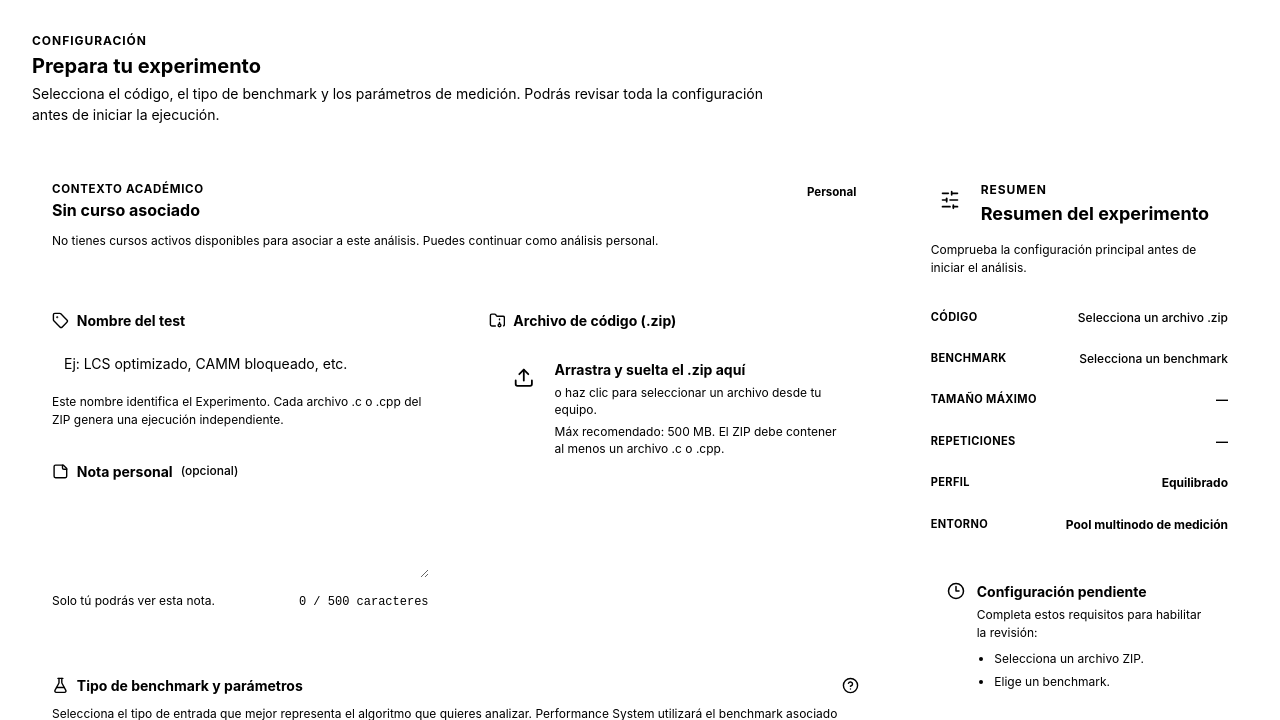
it: RenderFormPage 6A onboarding › note is secondary, editable, counted and limited to 500
Check: the text "Solo tú podrás ver esta nota." is shown, box [52, 592, 215, 610]
Check: the text "0 / 500 caracteres" is shown, box [299, 593, 428, 611]
Type "Título independiente" into the field labelled "Nombre del test".
click(240, 364); type("Título independiente")  # box [52, 343, 428, 385]
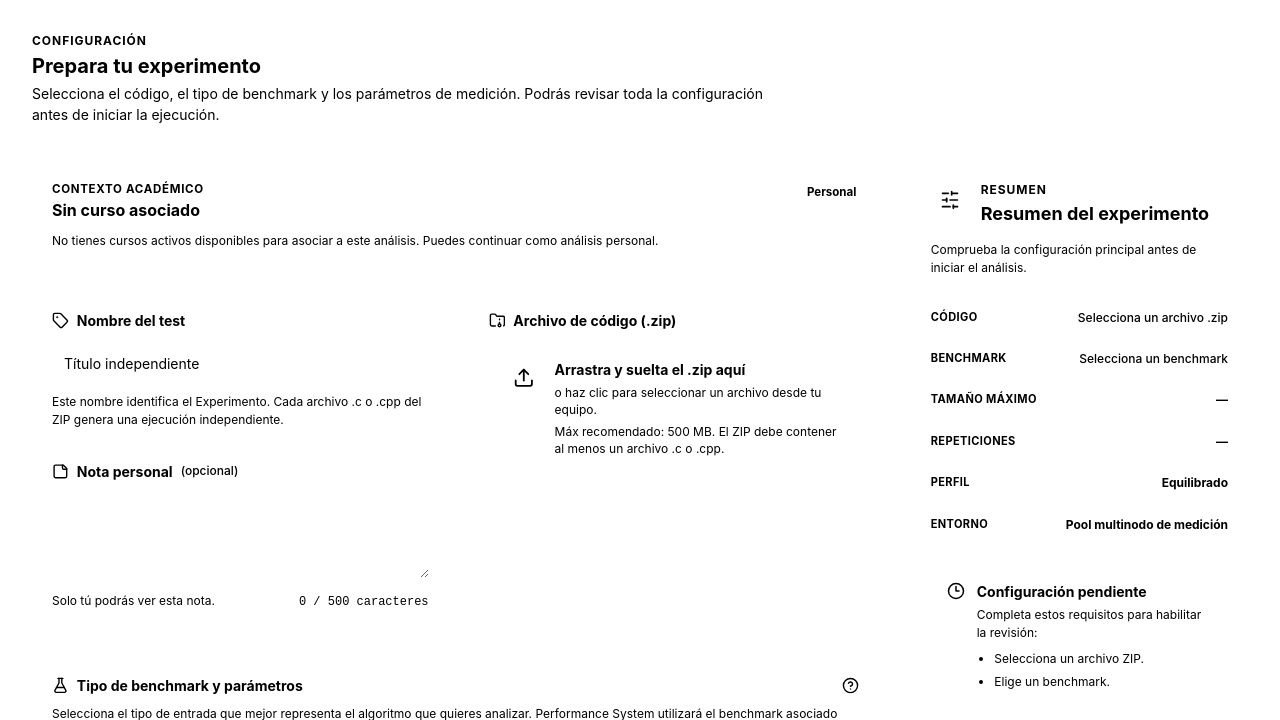
Type "nota" into the text box labelled "Nota personal (opcional)".
click(240, 534); type("nota")  # box [52, 490, 428, 578]
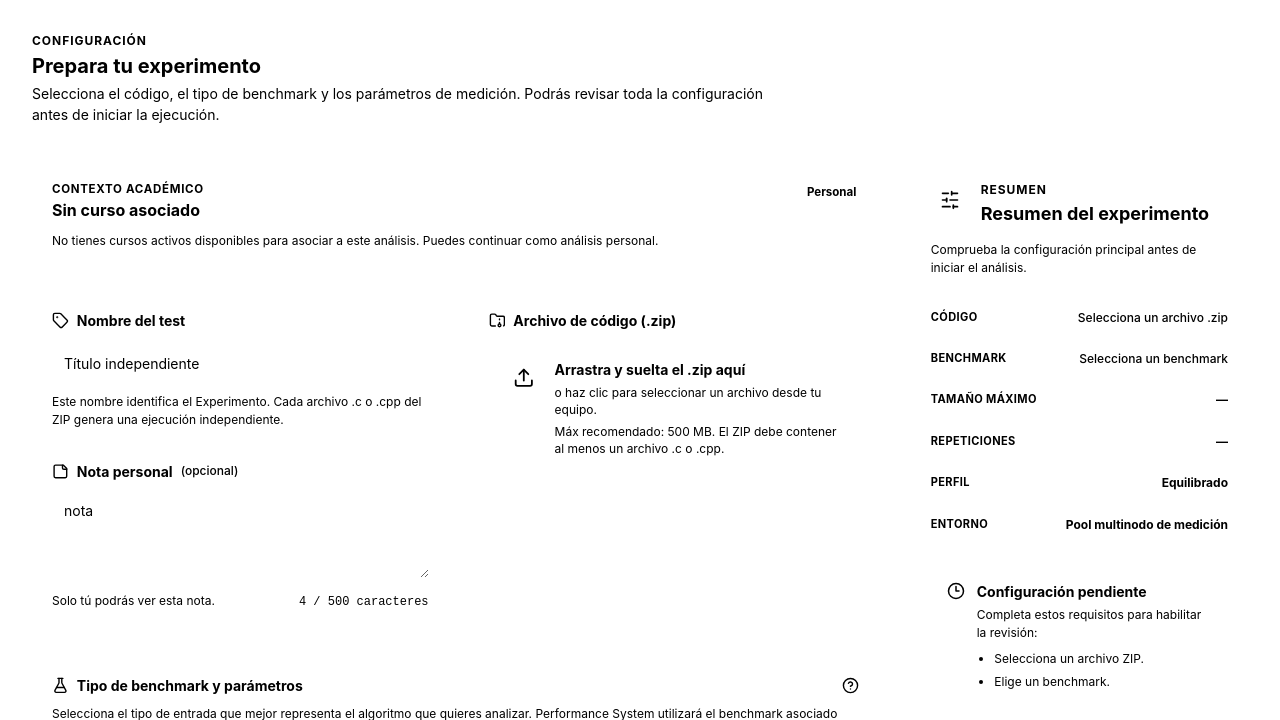
Check: the text "4 / 500 caracteres" is shown, box [299, 593, 428, 611]
